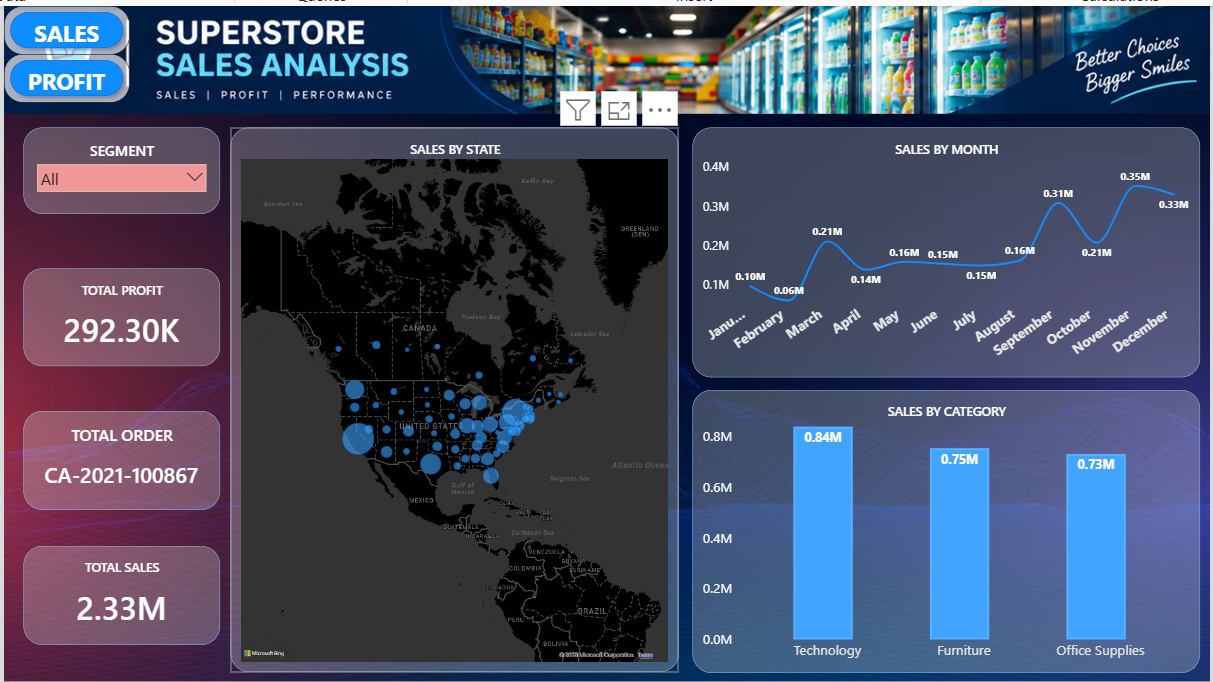

Layout of this report page (visuals, bound fields, positions):
{"tool":"powerbi","page":{"name":"Page 1","canvas":[1920,1080],"ordinal":0},"visuals":[{"type":"clusteredColumnChart","title":"SALES BY CATEGORY","fields":{"Category":["cleaned data.Category"],"Y":["Sum(cleaned data.Sales)"]},"box":[1095,610,807.5,450],"z":0},{"type":"map","title":"SALES BY STATE","fields":{"Category":["cleaned data.State/Province"],"Size":["Sum(cleaned data.Sales)"]},"box":[360.3,193.3,713.4,866.1],"z":1000},{"type":"lineChart","title":"SALES BY MONTH","fields":{"Category":["cleaned data.Order Date.Variation.Date Hierarchy.Month"],"Y":["Sum(cleaned data.Sales)"]},"box":[1095,192.5,807.5,397.5],"z":2000},{"type":"shape","box":[0,0,200,77.5],"z":3000},{"type":"shape","box":[0,77.5,200,77.5],"z":3001},{"type":"actionButton","box":[10,97.5,177.5,57.5],"z":3002},{"type":"cardVisual","title":"TOTAL SALES","fields":{"Data":["Sum(cleaned data.Sales)"]},"box":[30,860,312.5,157.5],"z":3003},{"type":"cardVisual","title":"TOTAL PROFIT ","fields":{"Data":["Sum(cleaned data.Profit)"]},"box":[30,417.5,312.5,155],"z":3004},{"type":"cardVisual","title":"TOTAL ORDER ","fields":{"Data":["Min(cleaned data.Order ID)"]},"box":[30,645,312.5,157.5],"z":3005},{"type":"slicer","title":"SEGMENT ","fields":{"Values":["cleaned data.Segment"]},"box":[30,192.5,312.5,137.5],"z":3006}]}

Visuals, with their boxes in screenshot pixels (x1, y1, x2, y2), scaled from the page's 1920x1080 canvas onto the 1213x682 screenshot:
"SALES BY CATEGORY" clusteredColumnChart: [692,385,1202,669]
"SALES BY STATE" map: [228,122,678,669]
"SALES BY MONTH" lineChart: [692,122,1202,373]
shape: [0,0,126,49]
shape: [0,49,126,98]
actionButton: [6,62,118,98]
"TOTAL SALES" cardVisual: [19,543,216,643]
"TOTAL PROFIT " cardVisual: [19,264,216,362]
"TOTAL ORDER " cardVisual: [19,407,216,507]
"SEGMENT " slicer: [19,122,216,208]
